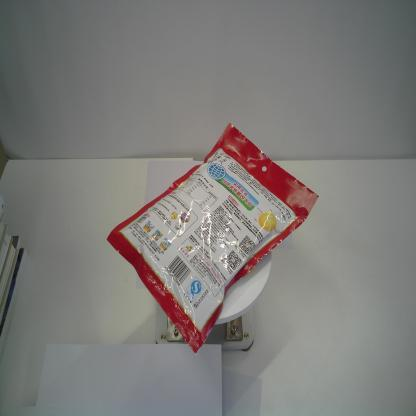Instant Drink: (105, 119, 321, 356)
